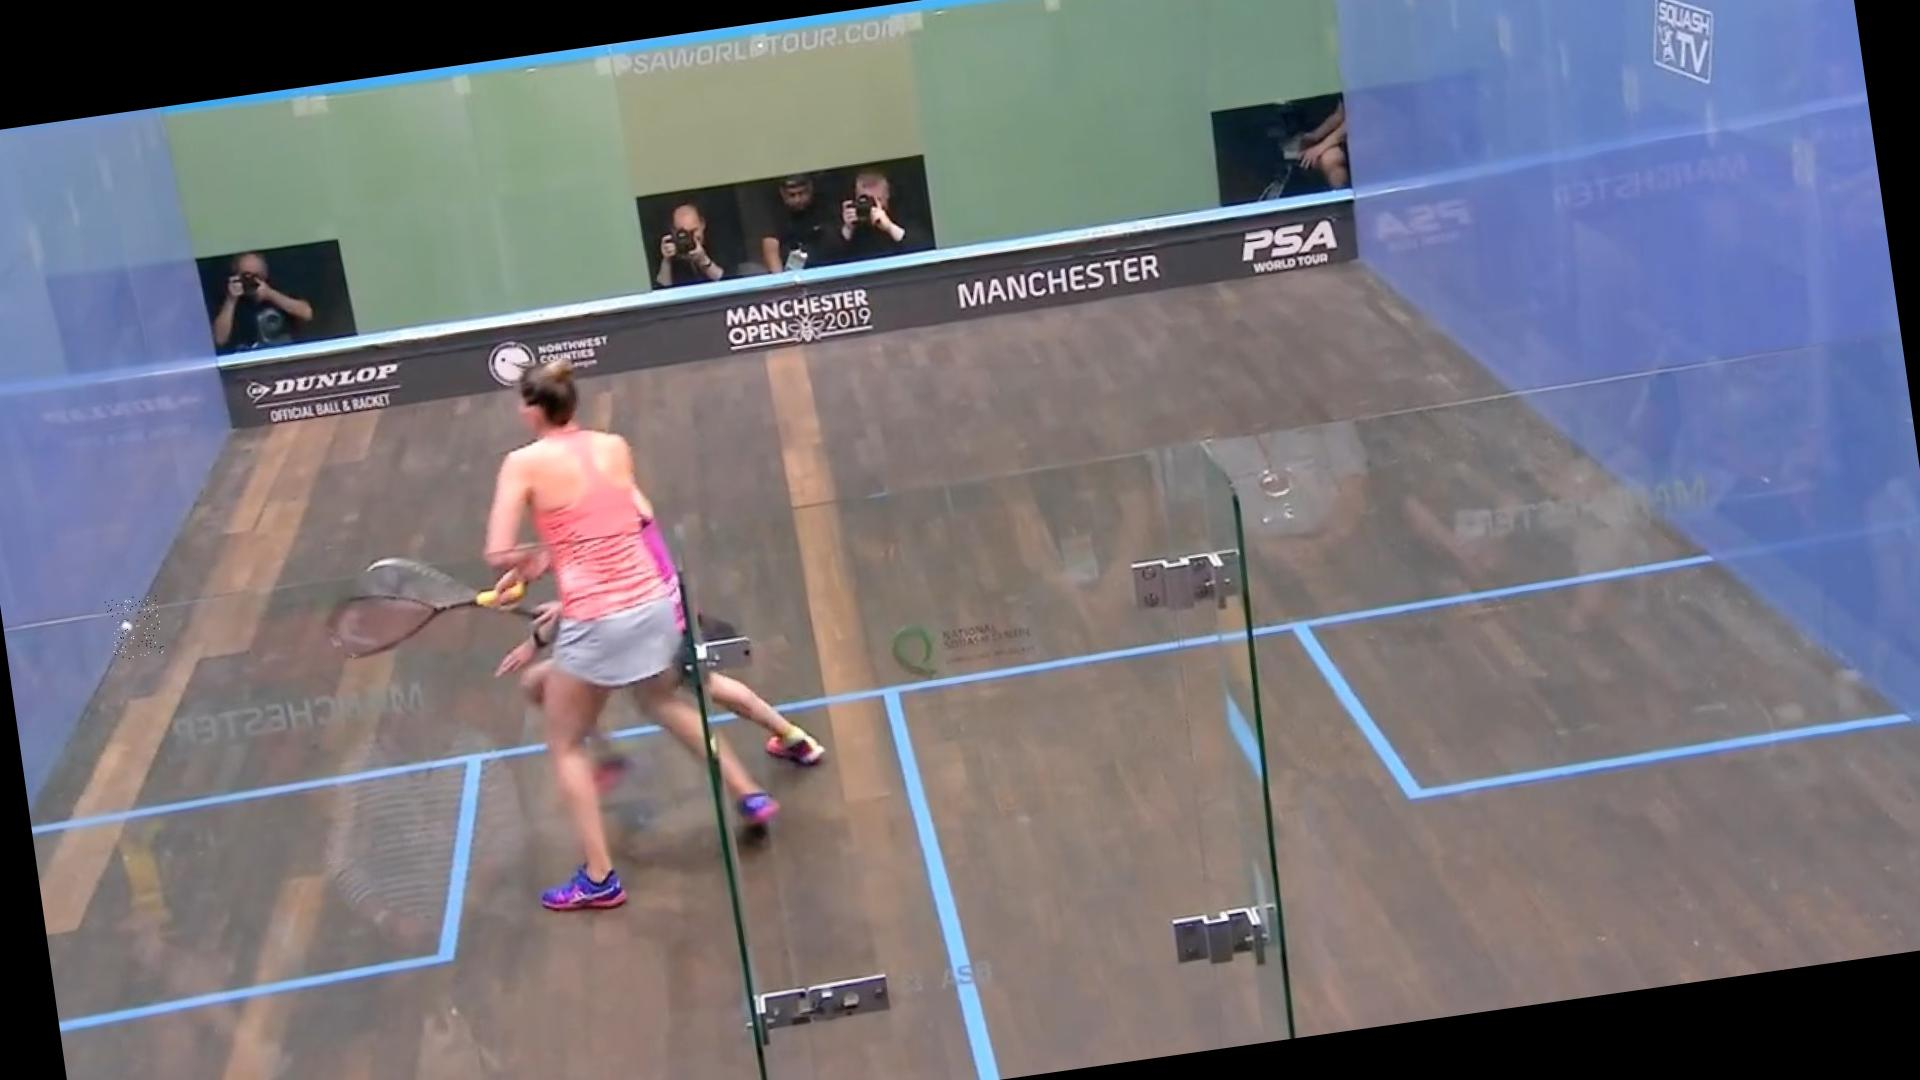Squash-Ball: (104, 593, 164, 661)
